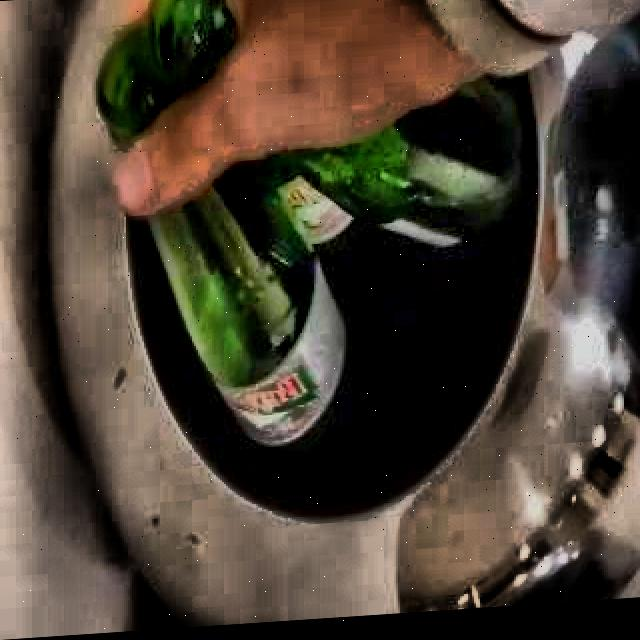glass: (149, 84, 525, 449), (98, 0, 239, 145)
